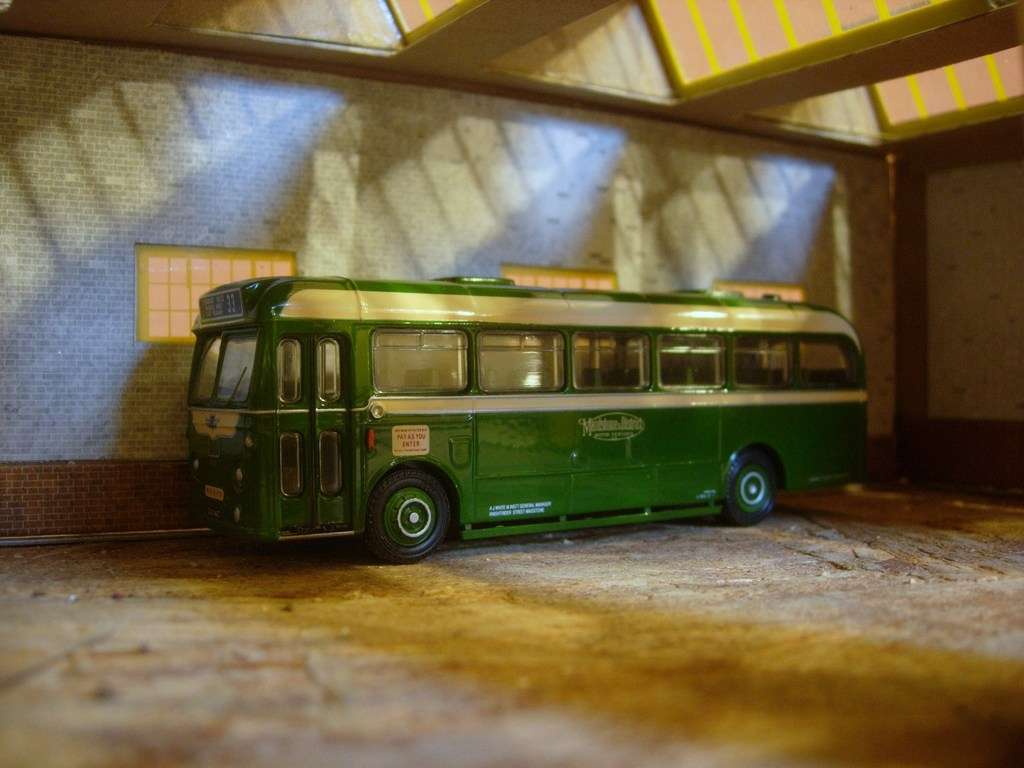Bus: (184, 277, 867, 560)
